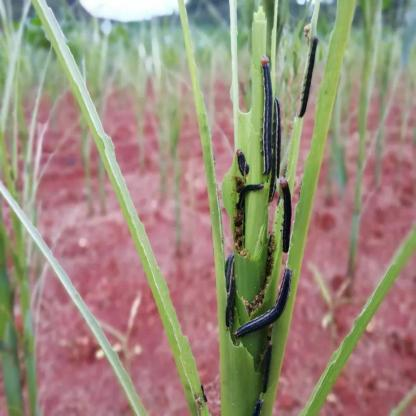armyworm: (238, 265, 294, 350), (257, 53, 276, 186), (298, 34, 323, 128), (222, 254, 242, 330), (270, 91, 284, 190), (278, 176, 295, 257), (233, 145, 252, 182), (238, 179, 268, 198)
